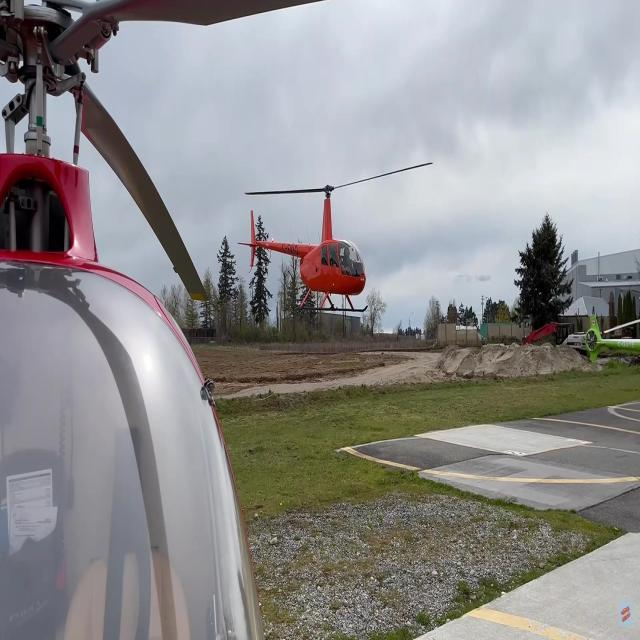CIV_HELO: (236, 183, 370, 316)
